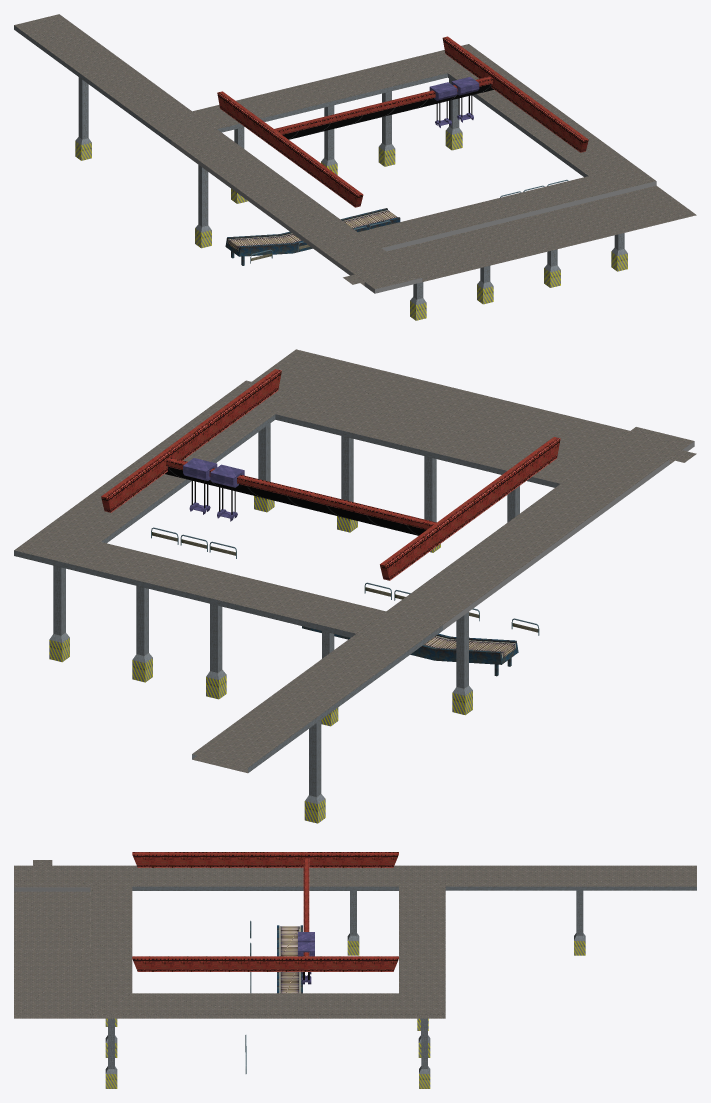
The model's file is imracompint_las2.obj.
3 views of the same model, one above another, from view 1: azimuth 30°, elevation 25°; view 2: azimuth 150°, elevation 25°; view 3: azimuth 270°, elevation 25° (orthographic). The views are drawn at different scales.
Visible parts, largest first — view 1: imracompint_las2; view 2: imracompint_las2; view 3: imracompint_las2.
Boxes of the visible parts, x1,y1,x2,y2 form: imracompint_las2: (14, 14, 696, 320); imracompint_las2: (14, 349, 696, 823); imracompint_las2: (14, 852, 696, 1088).
Size of the model in its own units: 31.46 by 11.29 by 58.85.
